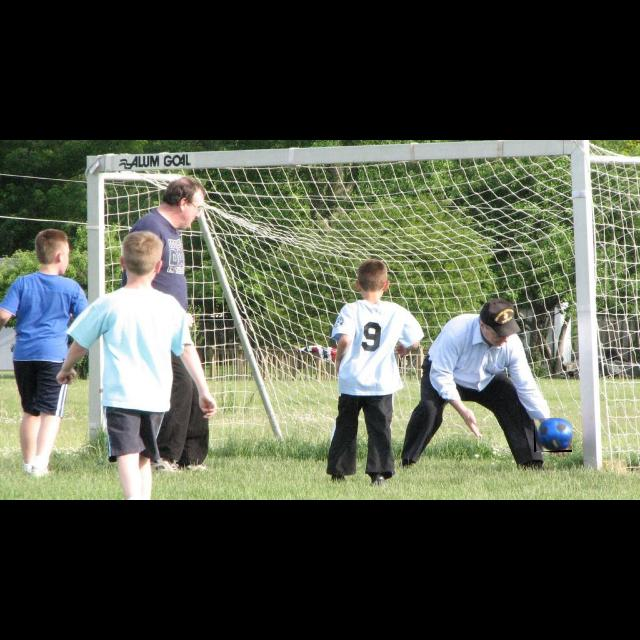Football: (534, 418, 572, 452)
